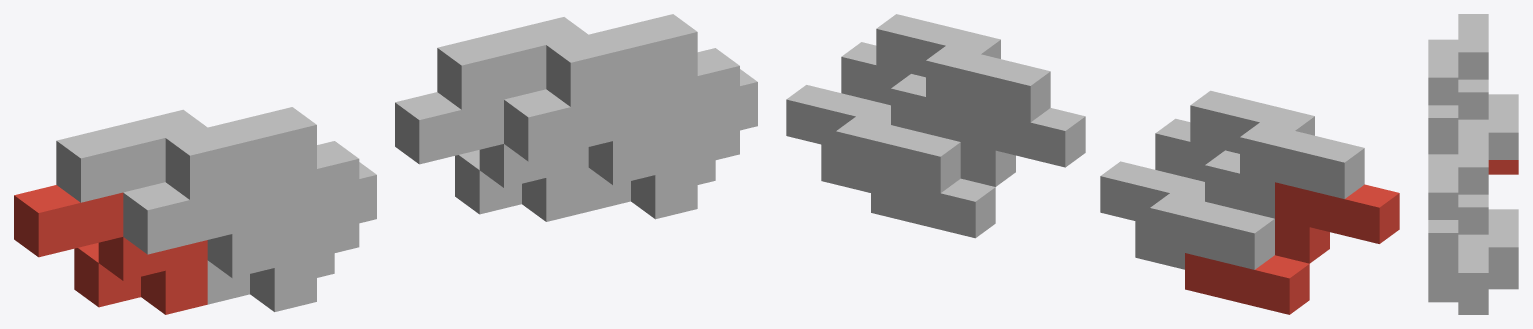
Rendered from tiling.obj.
3 views of the same model, side by side, from view 1: azimuth 30°, elevation 25°; view 2: azimuth 150°, elevation 25°; view 3: azimuth 270°, elevation 25° (orthographic). The views are drawn at different scales.
Parts seen in each view (by area): view 1: copy_1_domain_8, copy_1_domain_4, copy_1_domain_6, copy_1_domain_2, copy_1_domain_1, copy_1_domain_5, copy_1_domain_3, copy_1_domain_7; view 2: copy_1_domain_3, copy_1_domain_7, copy_1_domain_5, copy_1_domain_1, copy_1_domain_4, copy_1_domain_8, copy_1_domain_2, copy_1_domain_6; view 3: copy_1_domain_8, copy_1_domain_3, copy_1_domain_7, copy_1_domain_4, copy_1_domain_6, copy_1_domain_1, copy_1_domain_5.
Part boxes in pixels (bbox=[...]): copy_1_domain_8: bbox=[546, 14, 757, 164]; copy_1_domain_4: bbox=[165, 107, 376, 257]; copy_1_domain_6: bbox=[504, 86, 715, 219]; copy_1_domain_2: bbox=[123, 179, 334, 311]; copy_1_domain_1: bbox=[14, 185, 207, 314]; copy_1_domain_5: bbox=[395, 92, 588, 221]; copy_1_domain_3: bbox=[56, 109, 207, 202]; copy_1_domain_7: bbox=[437, 17, 587, 109]; copy_1_domain_3: bbox=[1150, 122, 1364, 269]; copy_1_domain_7: bbox=[836, 46, 1050, 193]; copy_1_domain_5: bbox=[871, 105, 1085, 238]; copy_1_domain_1: bbox=[1185, 182, 1399, 314]; copy_1_domain_4: bbox=[1100, 90, 1314, 224]; copy_1_domain_8: bbox=[786, 14, 1000, 147]; copy_1_domain_2: bbox=[1135, 221, 1184, 269]; copy_1_domain_6: bbox=[821, 144, 870, 192]; copy_1_domain_8: bbox=[1428, 154, 1488, 300]; copy_1_domain_3: bbox=[1458, 14, 1518, 159]; copy_1_domain_7: bbox=[1458, 129, 1518, 274]; copy_1_domain_4: bbox=[1428, 39, 1488, 154]; copy_1_domain_6: bbox=[1428, 287, 1488, 314]; copy_1_domain_1: bbox=[1488, 160, 1518, 174]; copy_1_domain_5: bbox=[1488, 275, 1518, 289].
Size of the model in its own units: 17 by 4 by 3.
